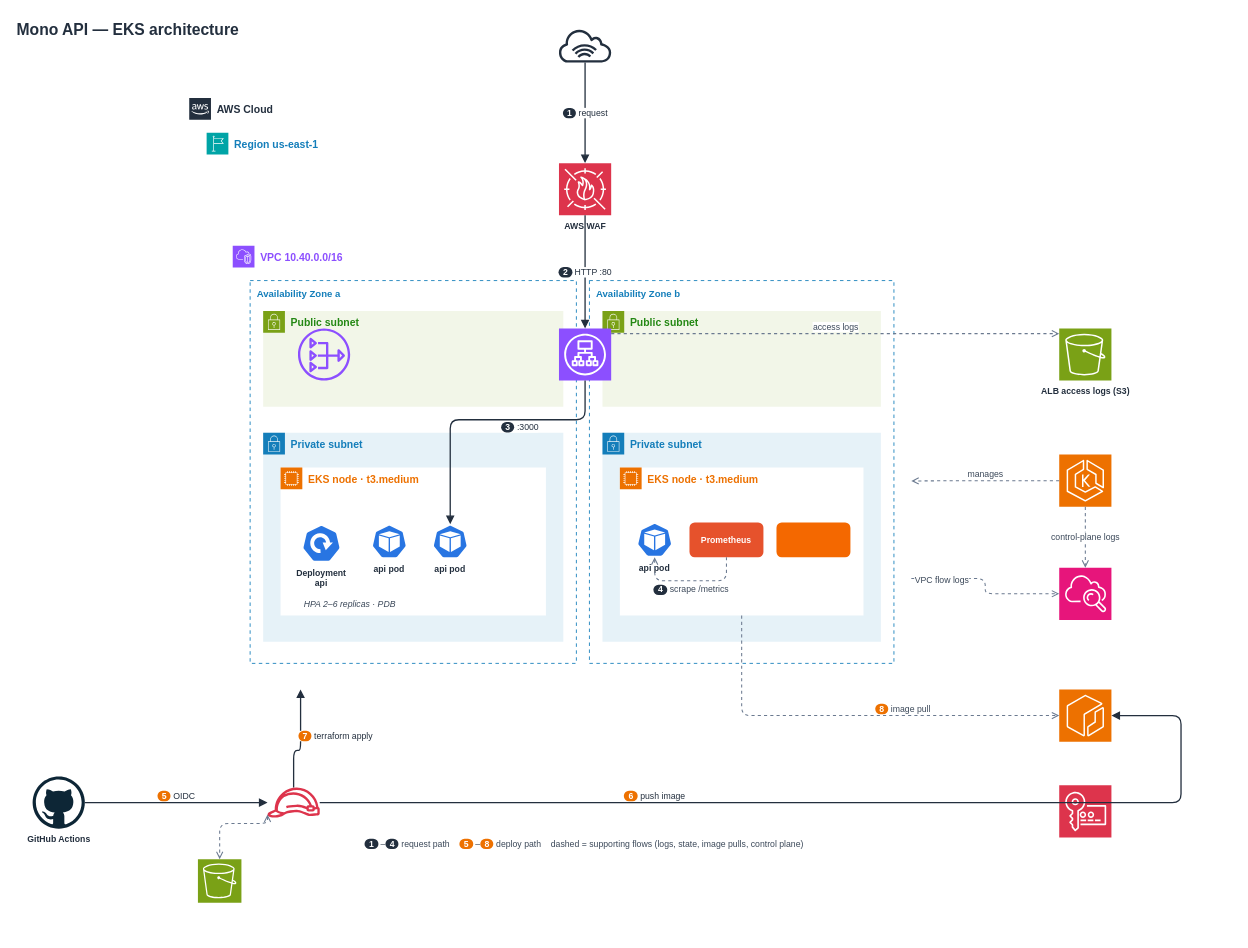
Some shapes in this 1248 by 948 pixel diagram are drawn without their labels. The box of each missing label's shape, as (x1, y1, x2, y2) in pixels:
Amazon ECR: (1058, 689, 1111, 742)
Application Load Balancer: (558, 328, 611, 381)
AWS KMS: (1058, 784, 1111, 837)
CloudWatch Logs: (1058, 567, 1111, 620)
EKS control plane: (1058, 454, 1111, 507)
Grafana: (776, 522, 850, 557)
IAM deploy role: (267, 776, 320, 829)
Internet: (558, 19, 611, 72)
NAT Gateway: (297, 328, 350, 381)
Terraform state (S3): (197, 858, 241, 903)
